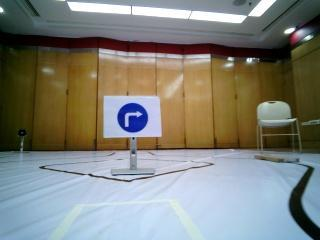right: (105, 98, 160, 139)
